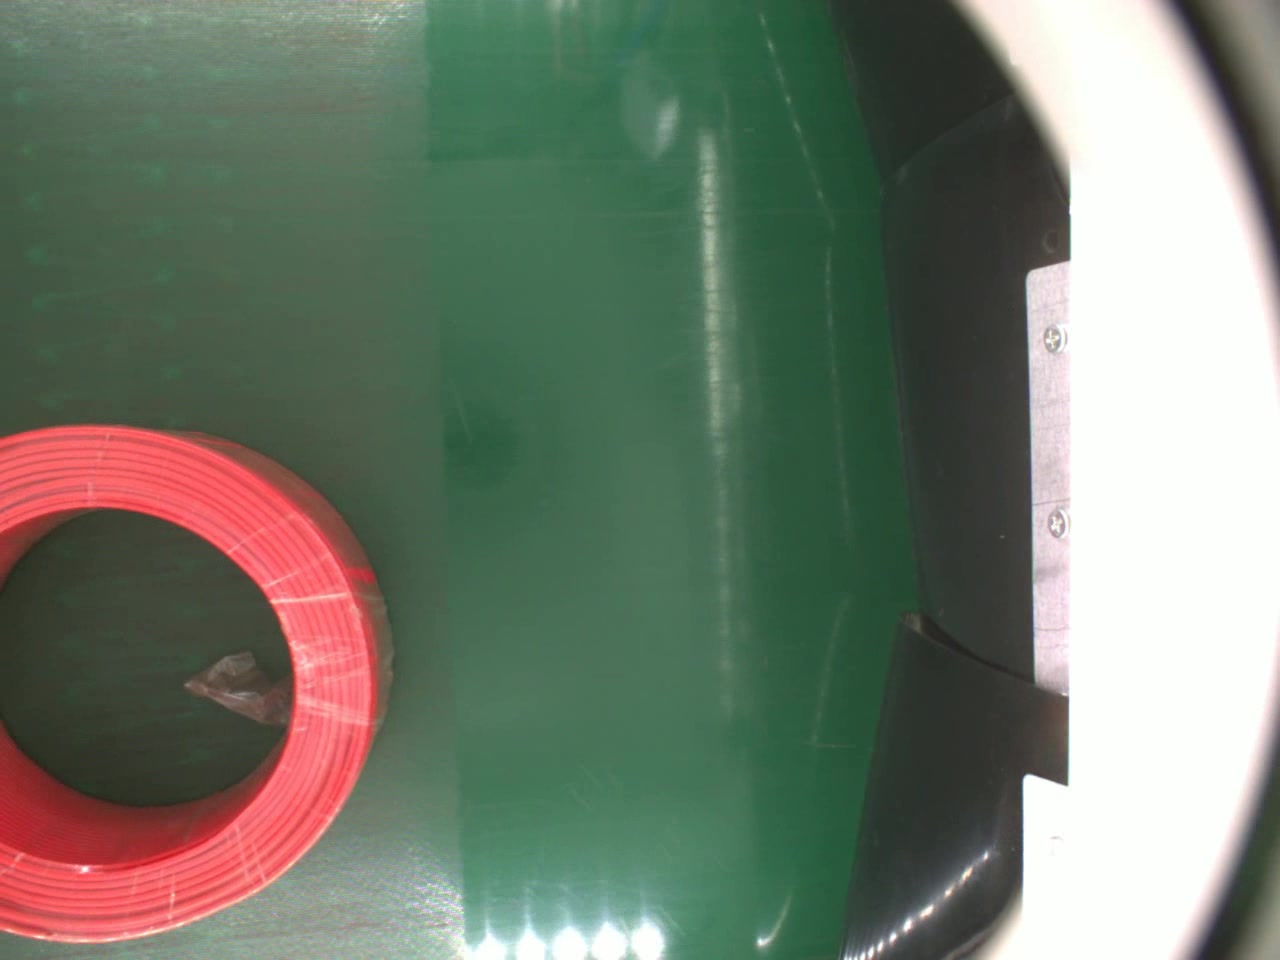red: (0, 418, 402, 947)
